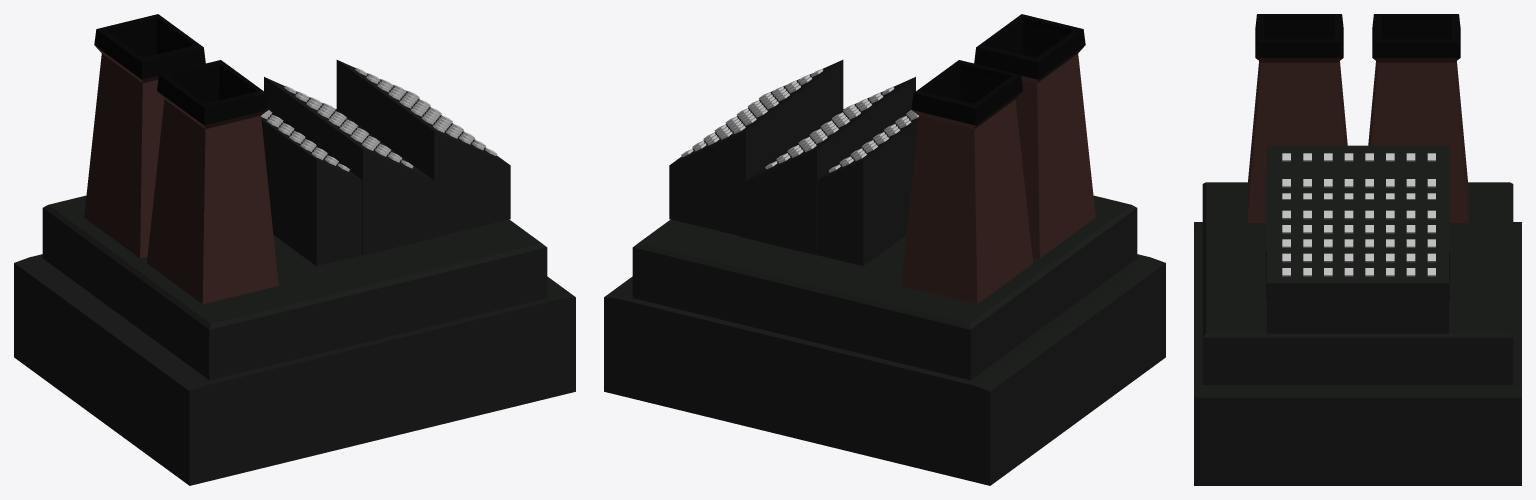
File: Factory1.fbx
The picture shows the model from 3 angles, left to right: view 1: azimuth 30°, elevation 25°; view 2: azimuth 150°, elevation 25°; view 3: azimuth 270°, elevation 25°; orthographic projection. The views are drawn at different scales.
Visible parts, largest first — view 1: Base, Chimney1, Chimney, SlantedCube2, SlantedCube1, SlantedCube; view 2: Base, Chimney, Chimney1, SlantedCube2, SlantedCube1, SlantedCube; view 3: Base, SlantedCube2, Chimney, Chimney1, SlantedCube1, SlantedCube.
Part boxes in pixels (box(x1,y1,x2,y2)): Base: box(14, 195, 575, 485); Chimney1: box(147, 60, 278, 304); Chimney: box(84, 14, 205, 258); SlantedCube2: box(336, 60, 510, 236); SlantedCube1: box(264, 77, 438, 255); SlantedCube: box(261, 110, 362, 266); Base: box(604, 195, 1165, 485); Chimney: box(901, 60, 1032, 304); Chimney1: box(974, 14, 1095, 258); SlantedCube2: box(669, 60, 843, 236); SlantedCube1: box(741, 77, 915, 255); SlantedCube: box(817, 110, 918, 266); Base: box(1194, 182, 1521, 485); SlantedCube2: box(1267, 199, 1448, 333); Chimney: box(1368, 14, 1468, 222); Chimney1: box(1247, 14, 1347, 222); SlantedCube1: box(1266, 166, 1449, 300); SlantedCube: box(1267, 145, 1448, 166).
Size of the model in its own units: 498 by 421 by 392.
